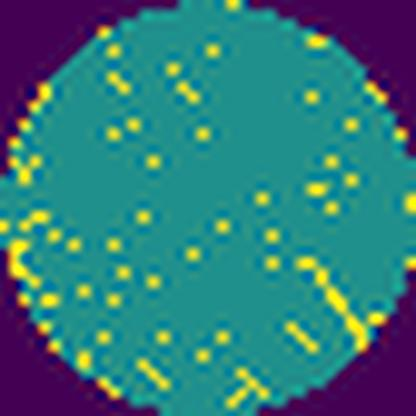Scratch: (295, 254, 367, 353)
